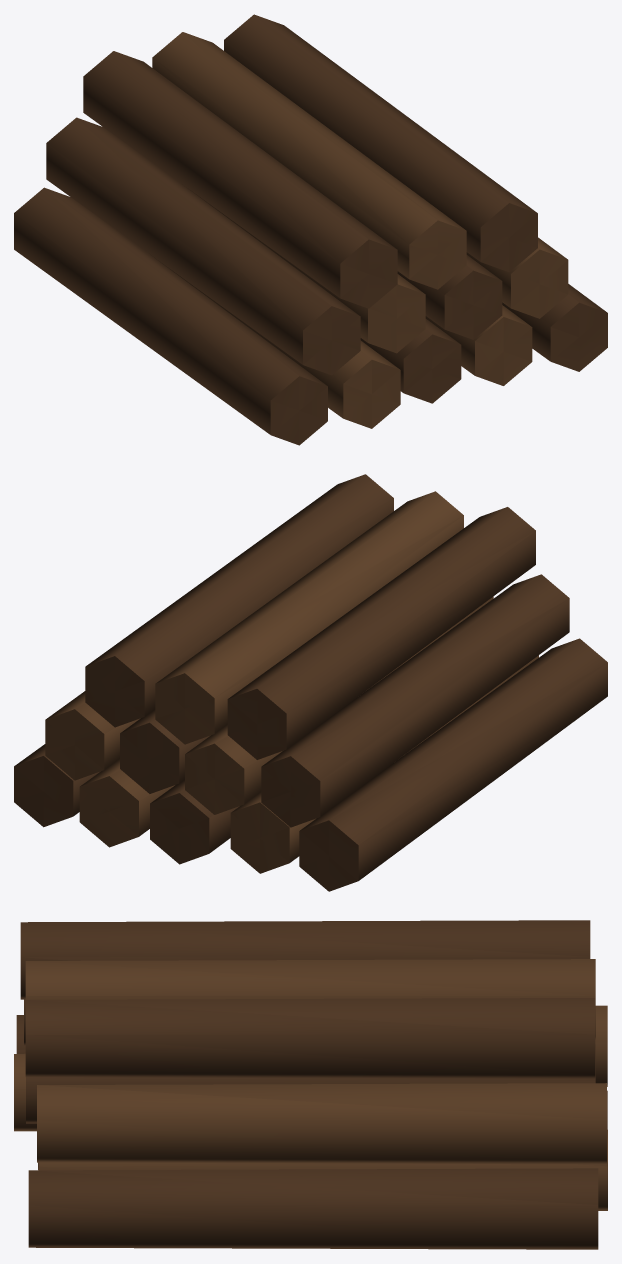
File: log_pile.glb
3 views of the same model, one above another, from view 1: azimuth 30°, elevation 25°; view 2: azimuth 150°, elevation 25°; view 3: azimuth 270°, elevation 25° (orthographic). The views are drawn at different scales.
Parts seen in each view (by area): view 1: log_pile_timber; view 2: log_pile_timber; view 3: log_pile_timber.
Boxes of the visible parts, box(x1,y1,x2,y2) form: log_pile_timber: box(14, 14, 607, 445); log_pile_timber: box(14, 474, 607, 891); log_pile_timber: box(14, 920, 607, 1249).
Bounding box in the file's own units: 2.5 × 1.32 × 3.34.
